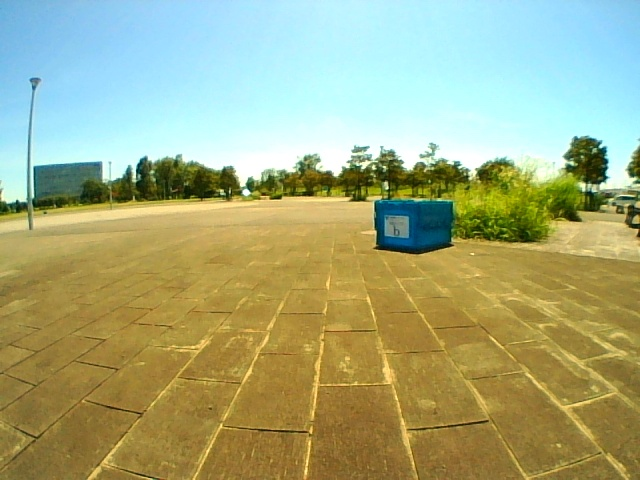blue_box: (375, 201, 451, 246)
tag_b: (384, 216, 410, 237)
